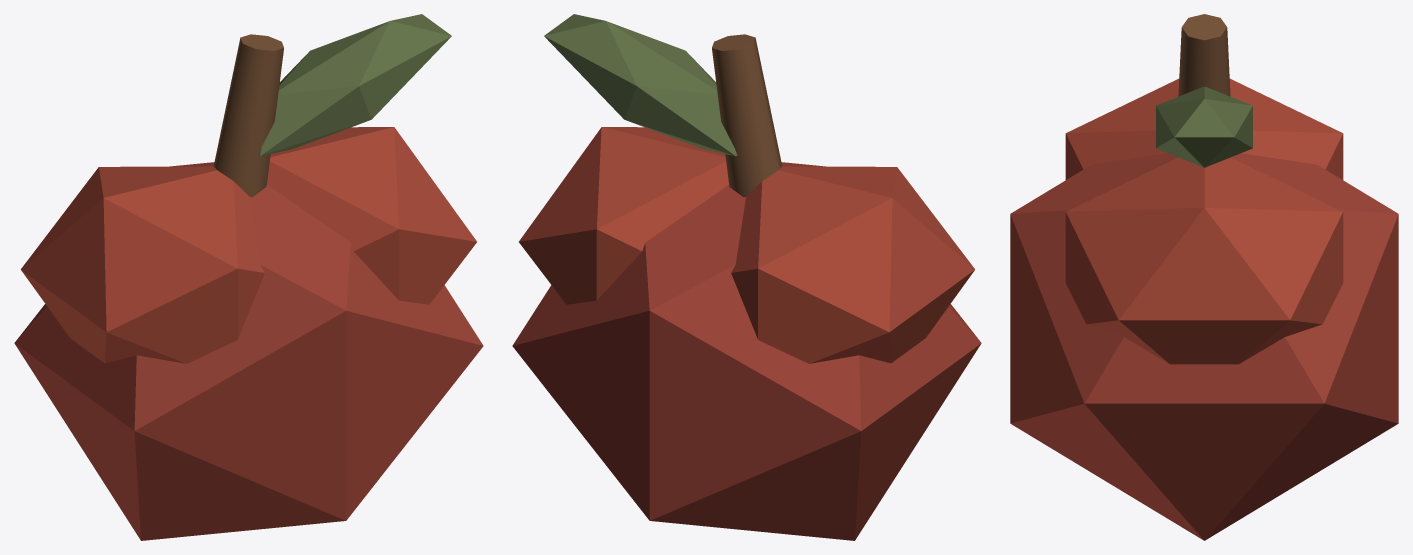
Rendered from pickup-apple.glb.
3 views of the same model, side by side, from view 1: azimuth 30°, elevation 25°; view 2: azimuth 150°, elevation 25°; view 3: azimuth 270°, elevation 25° (orthographic).
Parts seen in each view (by area): view 1: pickup-apple-surface; view 2: pickup-apple-surface; view 3: pickup-apple-surface.
Boxes of the visible parts, x1,y1,x2,y2 form: pickup-apple-surface: [14, 14, 483, 540]; pickup-apple-surface: [512, 14, 981, 540]; pickup-apple-surface: [1010, 14, 1398, 540].
Size of the model in its own units: 0.2639 by 0.319 by 0.2382.
